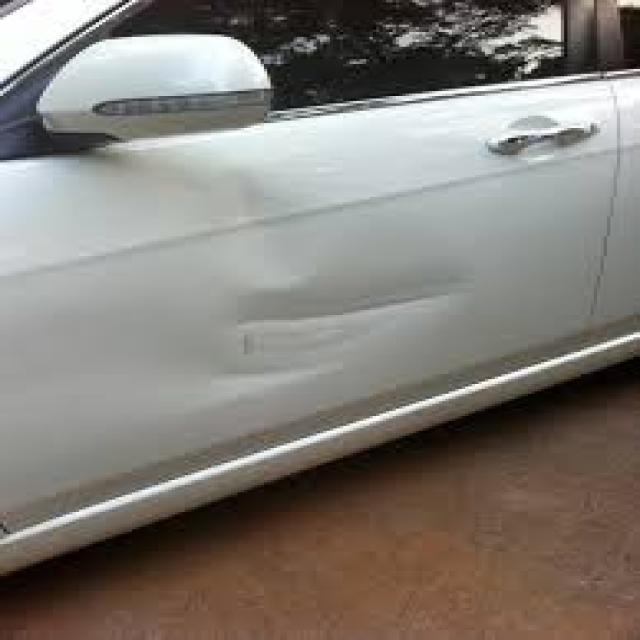Door: (40, 111, 581, 435)
